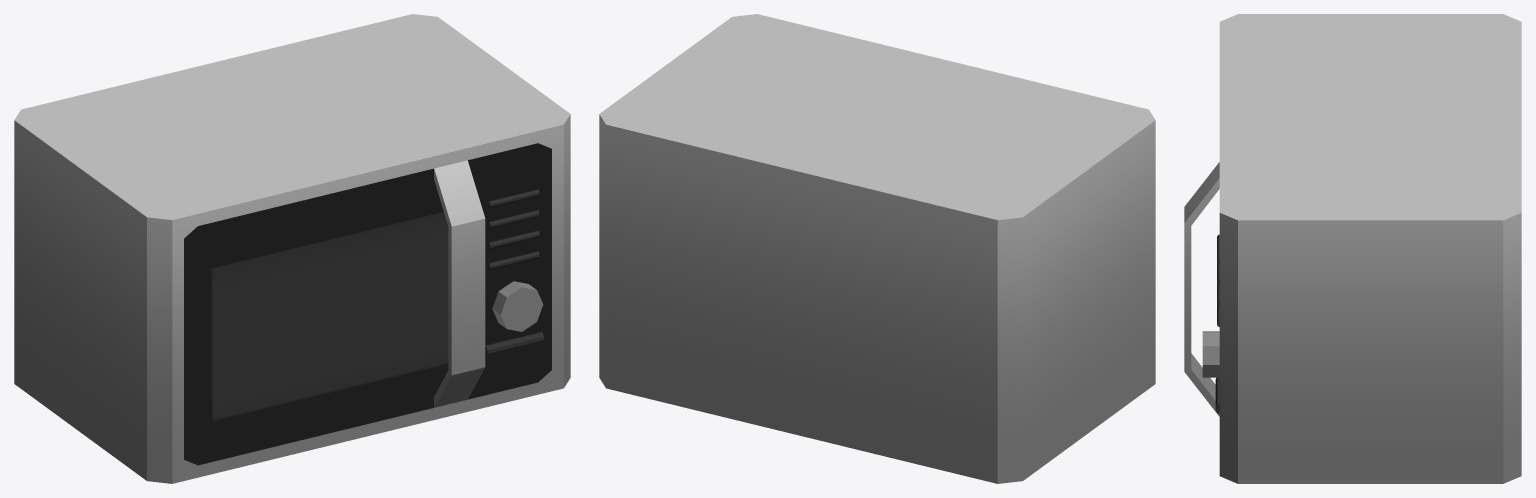
Rendered from microwave_oven 1.fbx.
3 renders of one model, left to right at view 1: azimuth 30°, elevation 25°; view 2: azimuth 150°, elevation 25°; view 3: azimuth 270°, elevation 25°, orthographic.
Visible parts, largest first — view 1: microwave_oven; view 2: microwave_oven; view 3: microwave_oven.
Boxes of the visible parts, bbox=[...] form: microwave_oven: bbox=[14, 14, 570, 483]; microwave_oven: bbox=[599, 14, 1155, 483]; microwave_oven: bbox=[1184, 14, 1521, 483].
Bounding box in the file's own units: 0.9403 × 0.5595 × 0.6491.
1 material, 1 textured.
